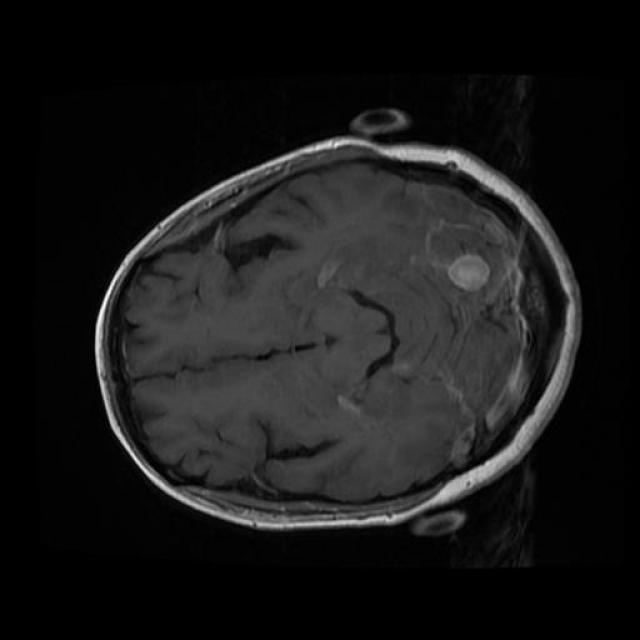Meningioma: (447, 253, 490, 292)
